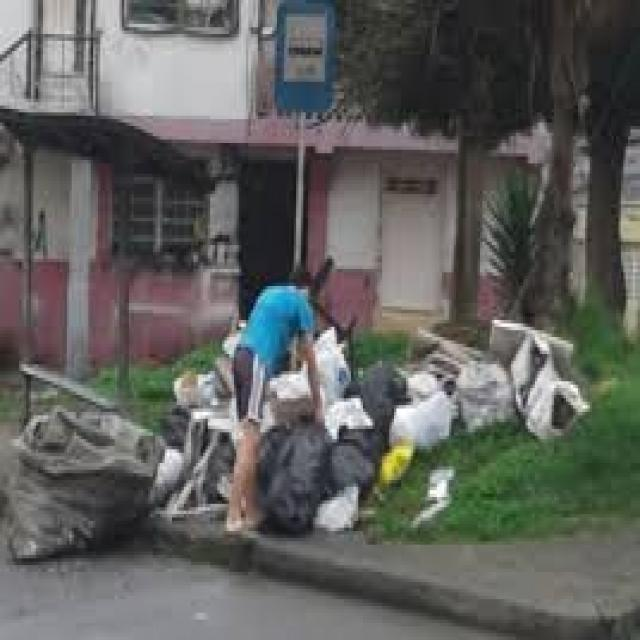garbage: (0, 283, 581, 562)
